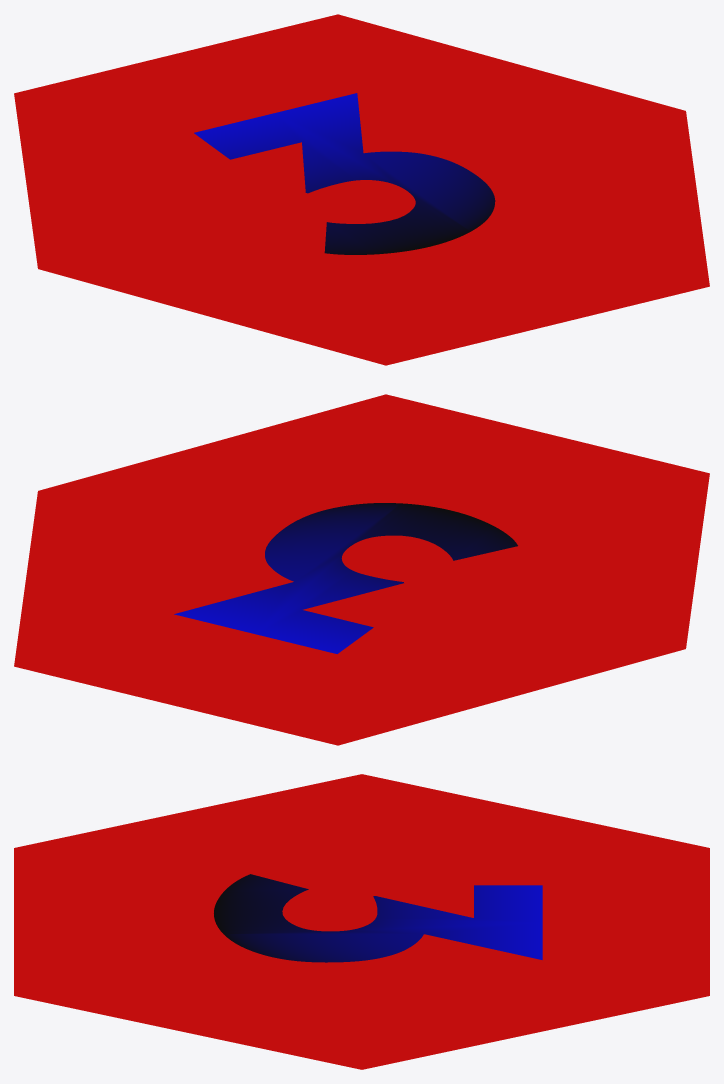
Rendered from SM_Number_3.fbx.
3 views of the same model, one above another, from view 1: azimuth 30°, elevation 25°; view 2: azimuth 150°, elevation 25°; view 3: azimuth 270°, elevation 25° (orthographic). The views are drawn at different scales.
Parts seen in each view (by area): view 1: FBX_OUT; view 2: FBX_OUT; view 3: FBX_OUT.
Part boxes in pixels (bbox=[...]): FBX_OUT: bbox=[14, 14, 709, 365]; FBX_OUT: bbox=[14, 394, 709, 745]; FBX_OUT: bbox=[14, 774, 709, 1069].
Size of the model in its own units: 50 by 0.2917 by 49.71.
